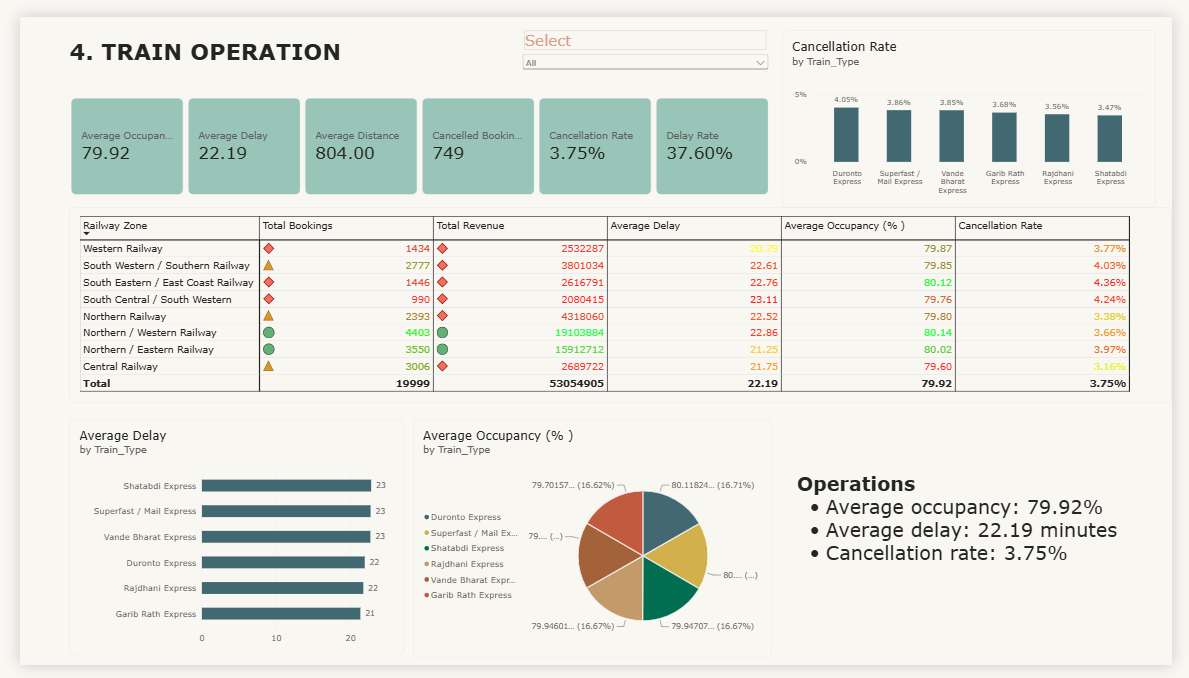

This screenshot's page, from the dashboard's own definition file:
{"tool":"powerbi","page":{"name":"Page 4","canvas":[1920,1080],"ordinal":3},"visuals":[{"type":"textbox","box":[82.2,34,1015,202.5],"z":0},{"type":"cardVisual","fields":{"Data":["irctc_data.Average Occupancy","irctc_data.Average Delay","irctc_data.Average Distance","irctc_data.Cancelled Bookings","irctc_data.Cancellation Rate","irctc_data.Delay Rate"]},"box":[84,134,1167.5,161.3],"z":1000},{"type":"pieChart","fields":{"Category":["irctc_data.Train_Type"],"Y":["irctc_data.Average Occupancy"]},"box":[654.1,670,597.4,397.5],"z":2000},{"type":"clusteredBarChart","fields":{"Category":["irctc_data.Train_Type"],"Y":["irctc_data.Average Delay"]},"box":[81.8,670,556.5,395.2],"z":3000},{"type":"clusteredColumnChart","fields":{"Category":["irctc_data.Train_Type"],"Y":["irctc_data.Cancellation Rate"]},"box":[1269.7,22.7,622.3,295.3],"z":4000},{"type":"pivotTable","fields":{"Rows":["irctc_data.Railway_Zone"],"Values":["irctc_data.Total Bookings","irctc_data.Total Revenue","irctc_data.Average Delay","irctc_data.Average Occupancy","irctc_data.Cancellation Rate"]},"box":[81.8,318,1837.5,324.8],"z":5000},{"type":"textbox","box":[1294.6,756.3,597.4,227.1],"z":6000},{"type":"slicer","fields":{"Values":["Date Table.Year","Date Table.Month Name","irctc_data.Train_Name","irctc_data.Travel_Class","irctc_data.Booking_Channel","irctc_data.Railway Zone"]},"box":[833.4,22.7,419.5,99.2],"z":7000}]}

Visuals, with their boxes in screenshot pixels (x1, y1, x2, y2), scaled from the page's 1920x1080 canvas onto the 1189x678 screenshot:
textbox: 51,21,679,148
cardVisual - irctc_data.Average Occupancy x irctc_data.Average Delay: 52,84,775,185
pieChart - irctc_data.Train_Type x irctc_data.Average Occupancy: 405,421,775,670
clusteredBarChart - irctc_data.Train_Type x irctc_data.Average Delay: 51,421,395,669
clusteredColumnChart - irctc_data.Train_Type x irctc_data.Cancellation Rate: 786,14,1172,200
pivotTable - irctc_data.Railway_Zone x irctc_data.Total Bookings: 51,200,1188,404
textbox: 802,475,1172,617
slicer - Date Table.Year x Date Table.Month Name: 516,14,776,77
